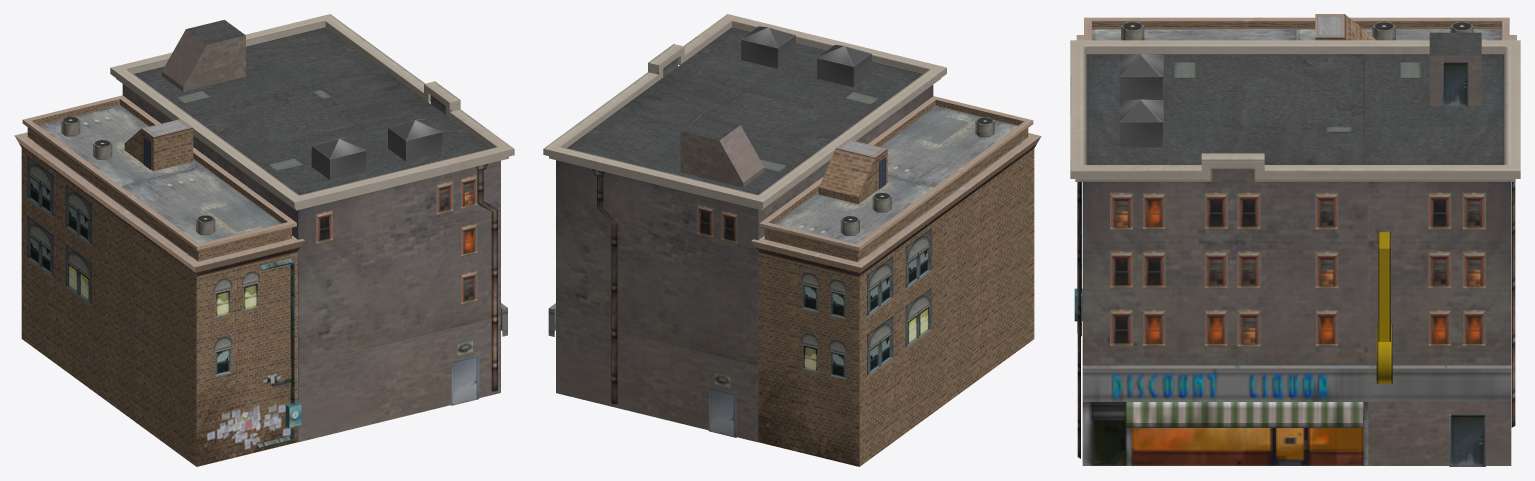
The model's file is liquor.glb.
The picture shows the model from 3 angles, left to right: view 1: azimuth 30°, elevation 25°; view 2: azimuth 150°, elevation 25°; view 3: azimuth 270°, elevation 25°; orthographic projection. The views are drawn at different scales.
Visible parts, largest first — view 1: liquor; view 2: liquor; view 3: liquor.
Part boxes in pixels (bbox=[...]): liquor: bbox=[14, 14, 514, 466]; liquor: bbox=[543, 14, 1041, 466]; liquor: bbox=[1070, 14, 1520, 466].
Size of the model in its own units: 20.77 by 15.9 by 18.9.
1 material, 1 textured.
